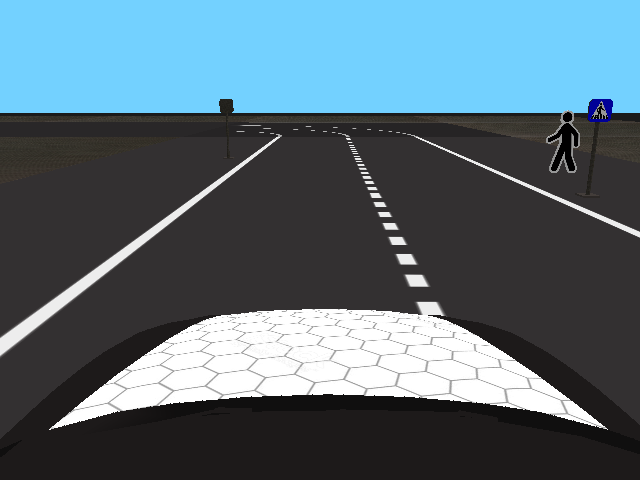pedestrian: (545, 110, 581, 174)
